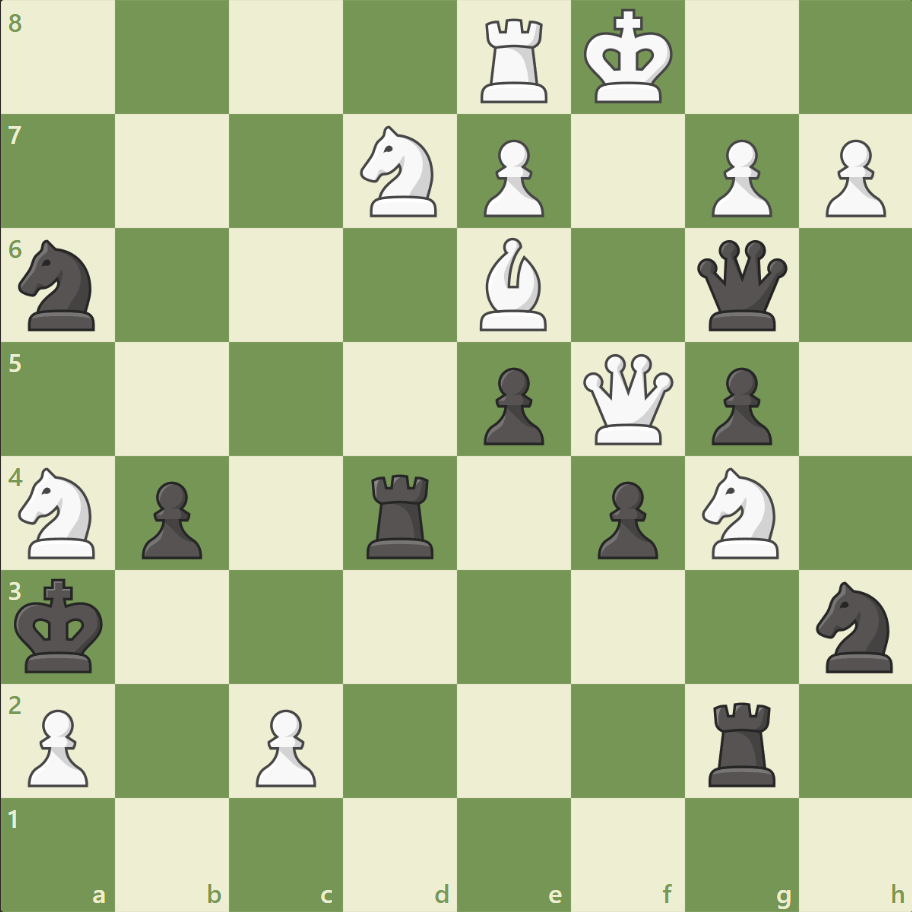B: (471, 233, 555, 336)
K: (579, 4, 679, 112)
N: (351, 121, 449, 223), (11, 461, 108, 564), (692, 461, 789, 564)
P: (474, 132, 549, 223), (701, 132, 776, 223), (20, 700, 95, 791), (247, 700, 322, 791), (815, 132, 889, 223)
Q: (578, 349, 677, 449)
R: (473, 12, 556, 109)
k: (11, 571, 111, 679)
n: (11, 234, 108, 337), (806, 575, 903, 677)
p: (474, 359, 549, 450), (701, 359, 776, 450), (133, 473, 208, 564), (588, 473, 662, 564)
q: (691, 236, 790, 335)
r: (700, 693, 783, 790), (360, 466, 442, 563)
